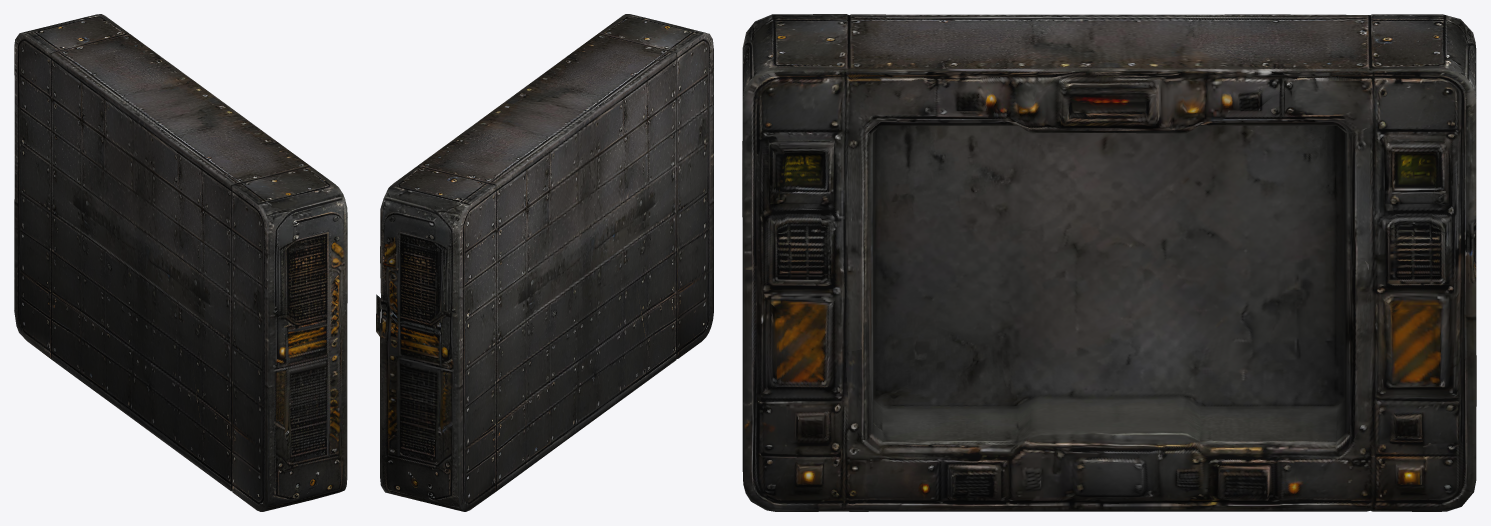
Rendered from WirePanel.fbx.
3 views of the same model, side by side, from view 1: azimuth 30°, elevation 25°; view 2: azimuth 150°, elevation 25°; view 3: azimuth 270°, elevation 25° (orthographic). The views are drawn at different scales.
Visible parts, largest first — view 1: meshes[0]; view 2: meshes[0]; view 3: meshes[0].
Part boxes in pixels (x1,y1,x2,y2): meshes[0]: (14,14,347,511); meshes[0]: (376,14,713,511); meshes[0]: (742,14,1476,511).
Size of the model in its own units: 0.2019 by 0.665 by 1.
1 material, 1 textured.
